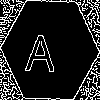A: (25, 25, 57, 72)
